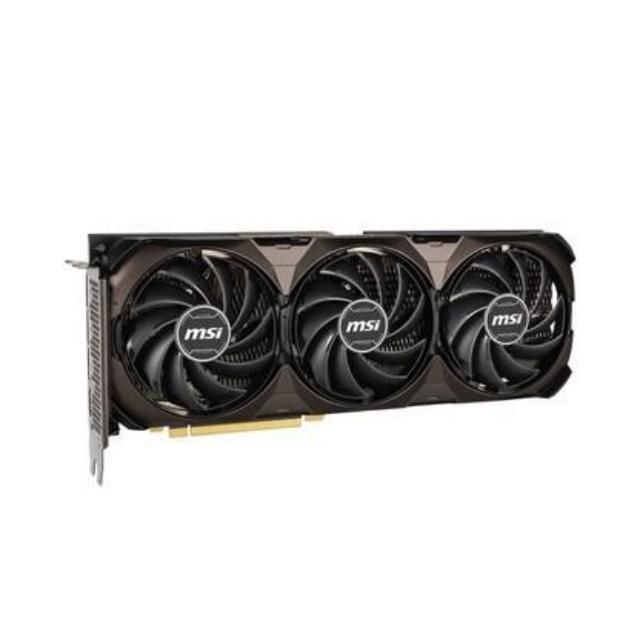GPU: (84, 226, 582, 440)
